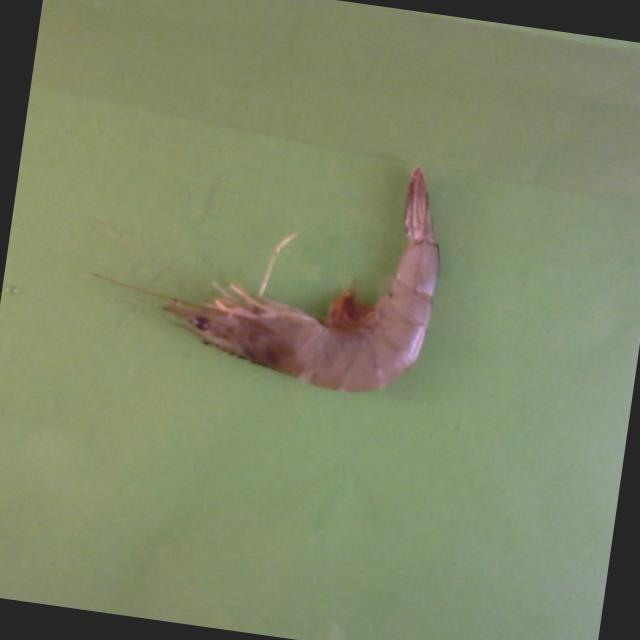shrimp: (164, 166, 439, 391)
